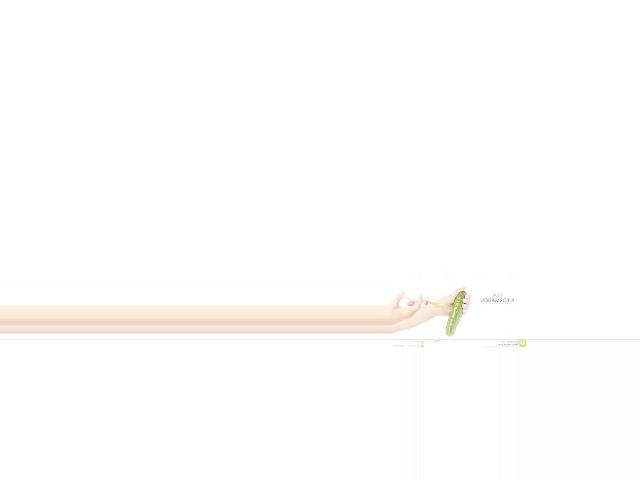cucumber: (444, 290, 465, 336)
